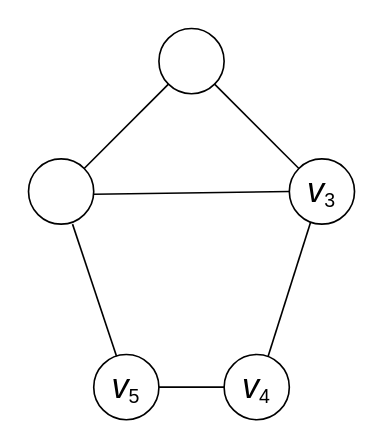
The diagram is 383 pixels wide and 448 high, and some of its shapes have lost their labels. The shapes that lost their labels are listed below. From the top down, each one's centre as x and y in pixels, then its label:
At (x=190, y=60): "v 2".
At (x=60, y=190): "v 1".
